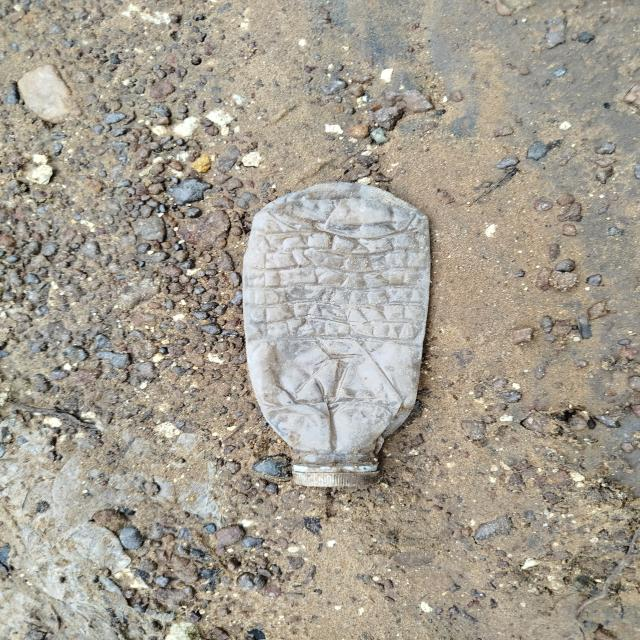plastic: (222, 175, 443, 504)
